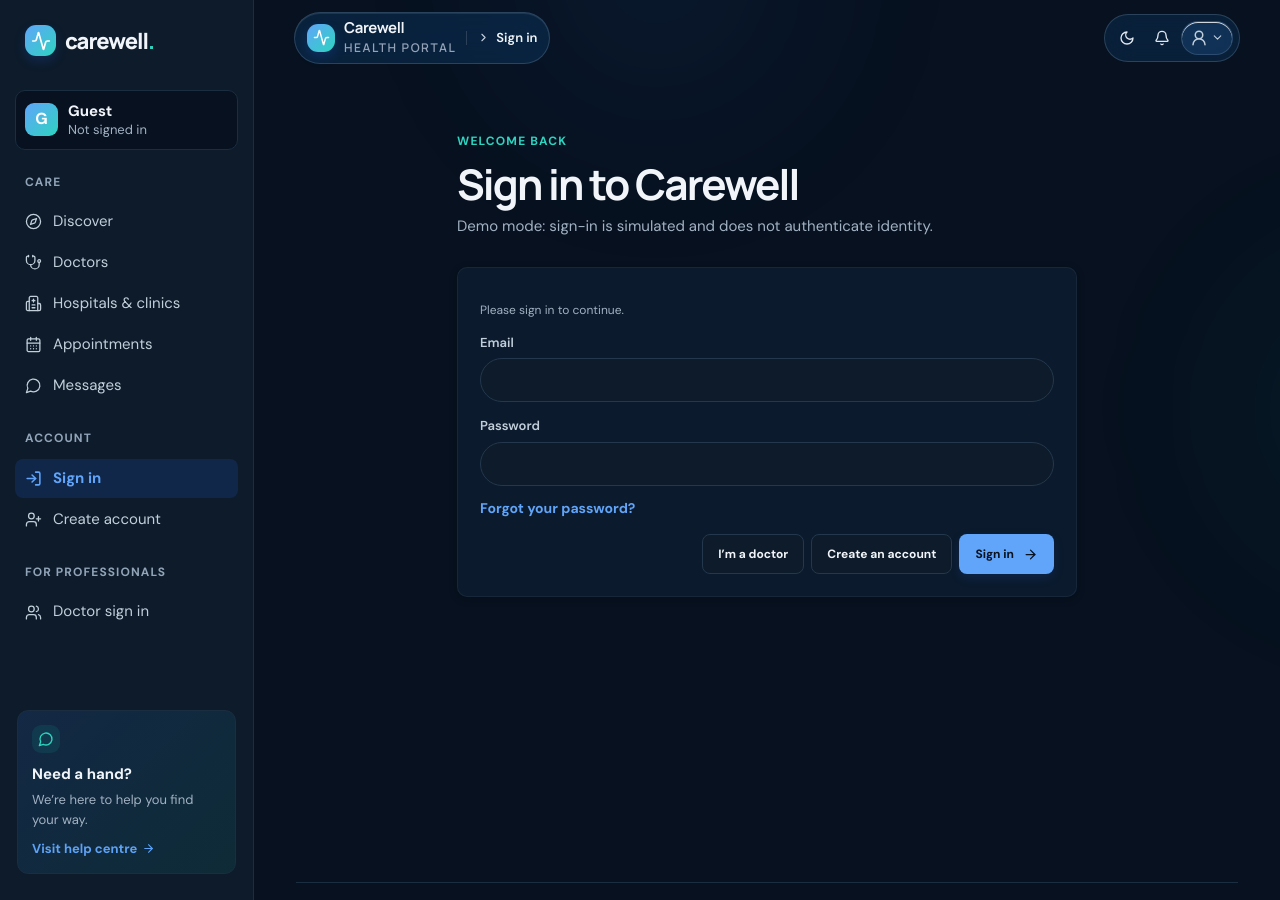
account gate › returns to the page the guest was heading to after signing in
Type "someone@example.test" into the field labelled "Email" at {"x": 767, "y": 380}, box [480, 358, 1054, 402]
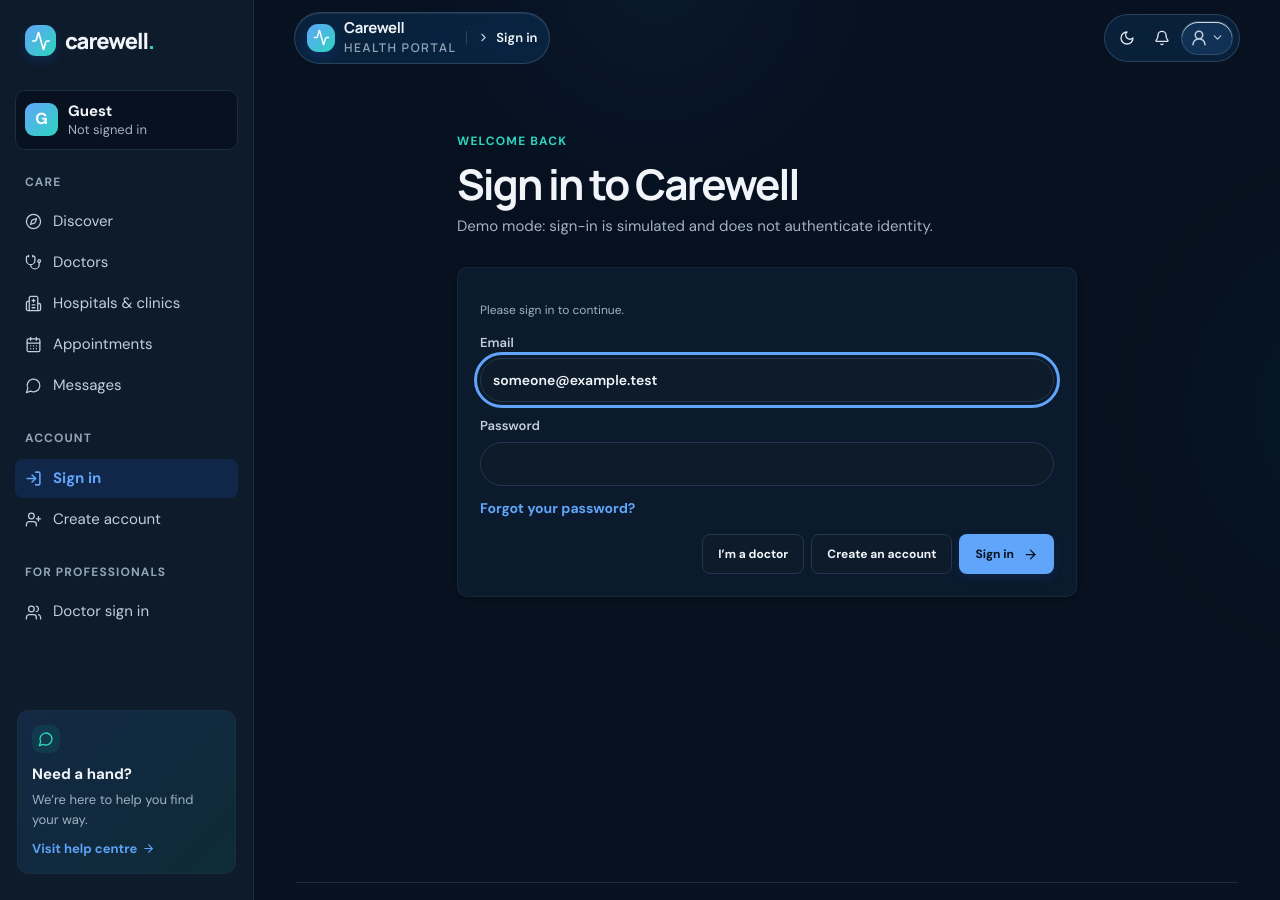
Type "correct-horse" into the password field labelled "Password" at {"x": 767, "y": 464}, box [480, 442, 1054, 486]
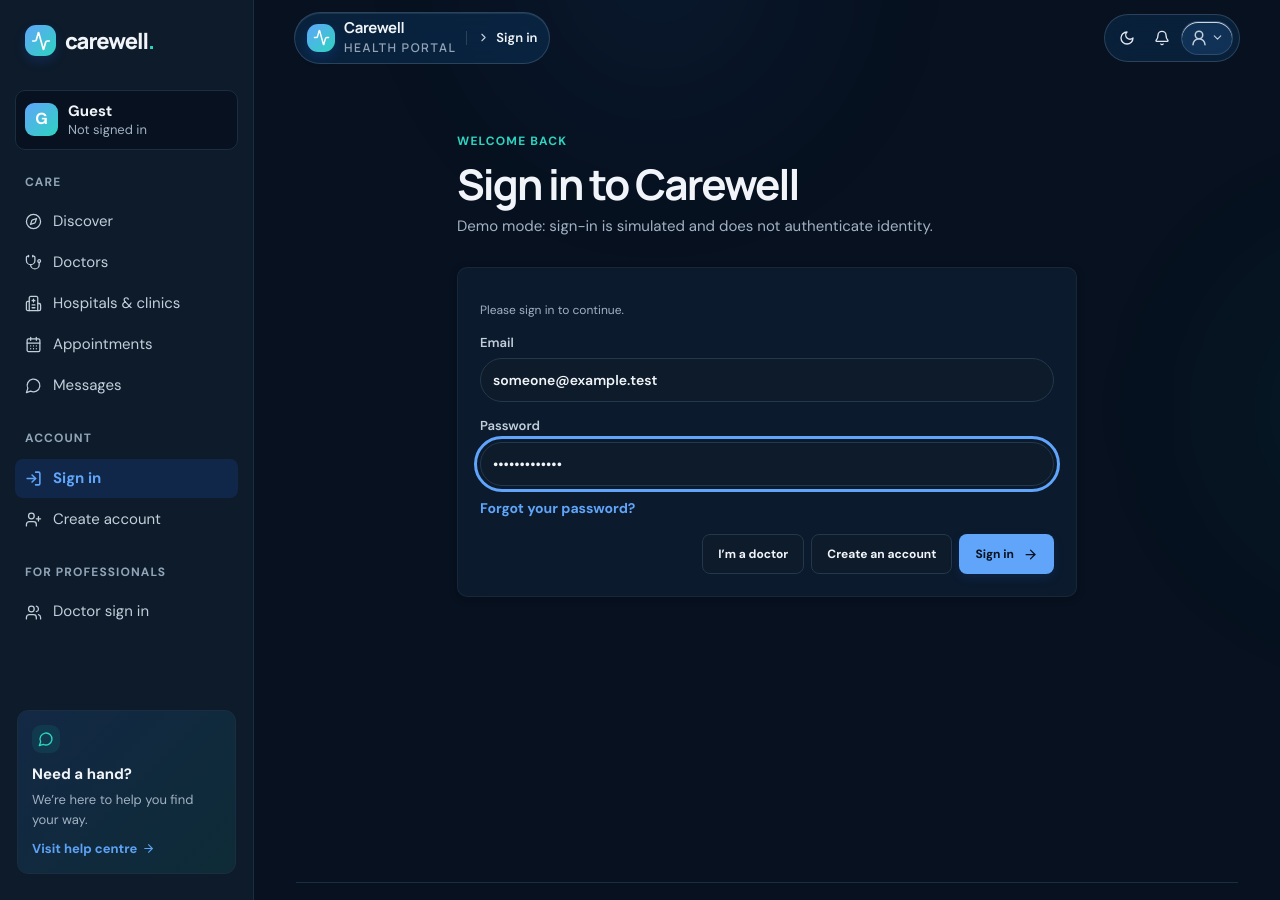
Click the button "Sign in" at {"x": 1007, "y": 554}, box [959, 534, 1054, 574]
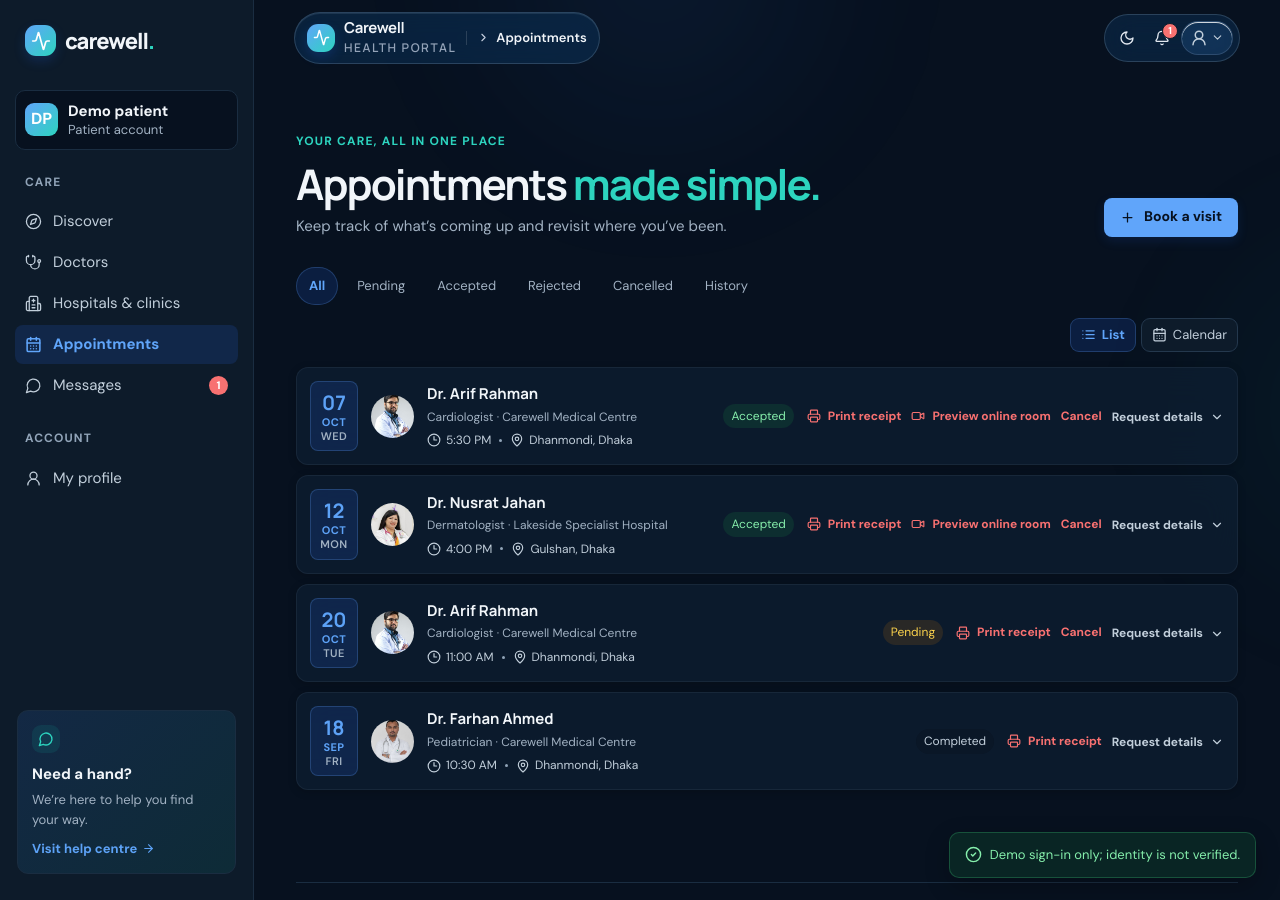
Expected: the heading "Appointments made simple." is shown, [296, 160, 820, 208]
